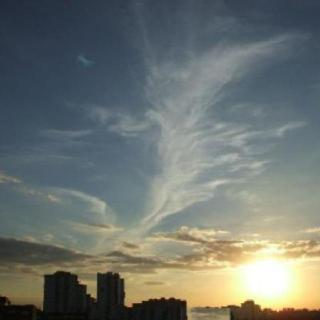Cirrus: (0, 2, 320, 288)
